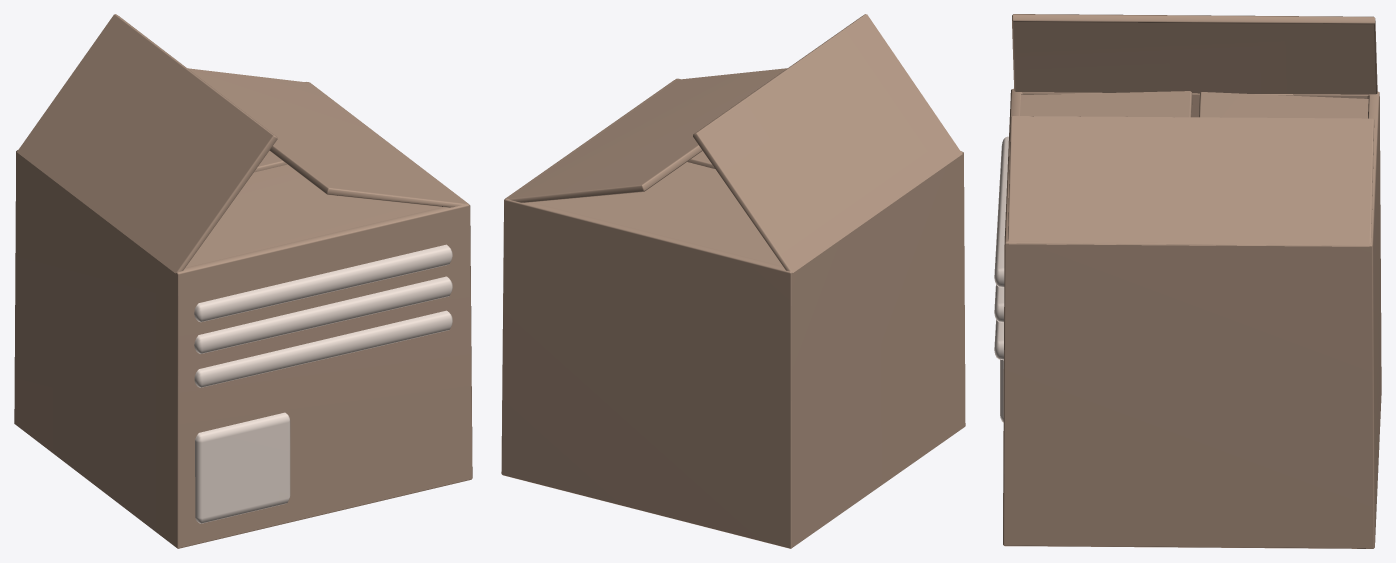
The picture shows the model from 3 angles, left to right: view 1: azimuth 30°, elevation 25°; view 2: azimuth 150°, elevation 25°; view 3: azimuth 270°, elevation 25°; orthographic projection. The views are drawn at different scales.
Parts seen in each view (by area): view 1: Box_7; view 2: Box_7; view 3: Box_7.
Part boxes in pixels (box(x1,y1,x2,y2)): Box_7: box(14, 14, 472, 548); Box_7: box(501, 14, 965, 548); Box_7: box(994, 14, 1381, 548).
Bounding box in the file's own units: 0.4059 × 0.5067 × 0.4151.
1 material, 1 textured.
